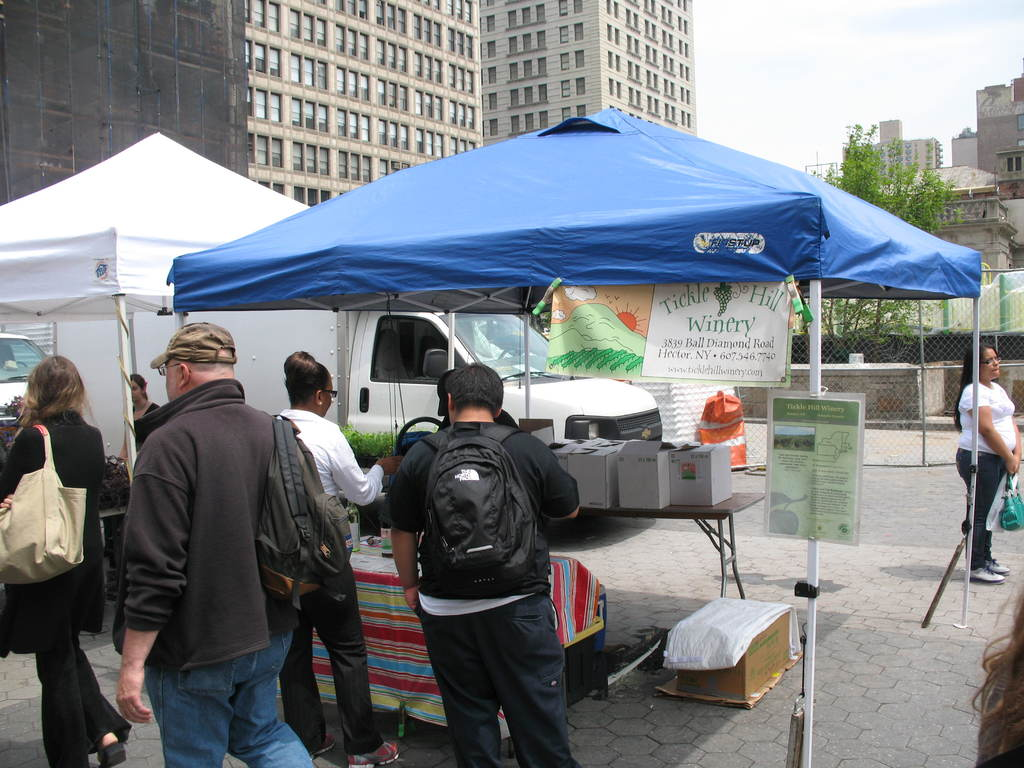Footwear: (348, 739, 401, 767), (310, 730, 339, 762), (970, 561, 1007, 585), (102, 741, 129, 767)
